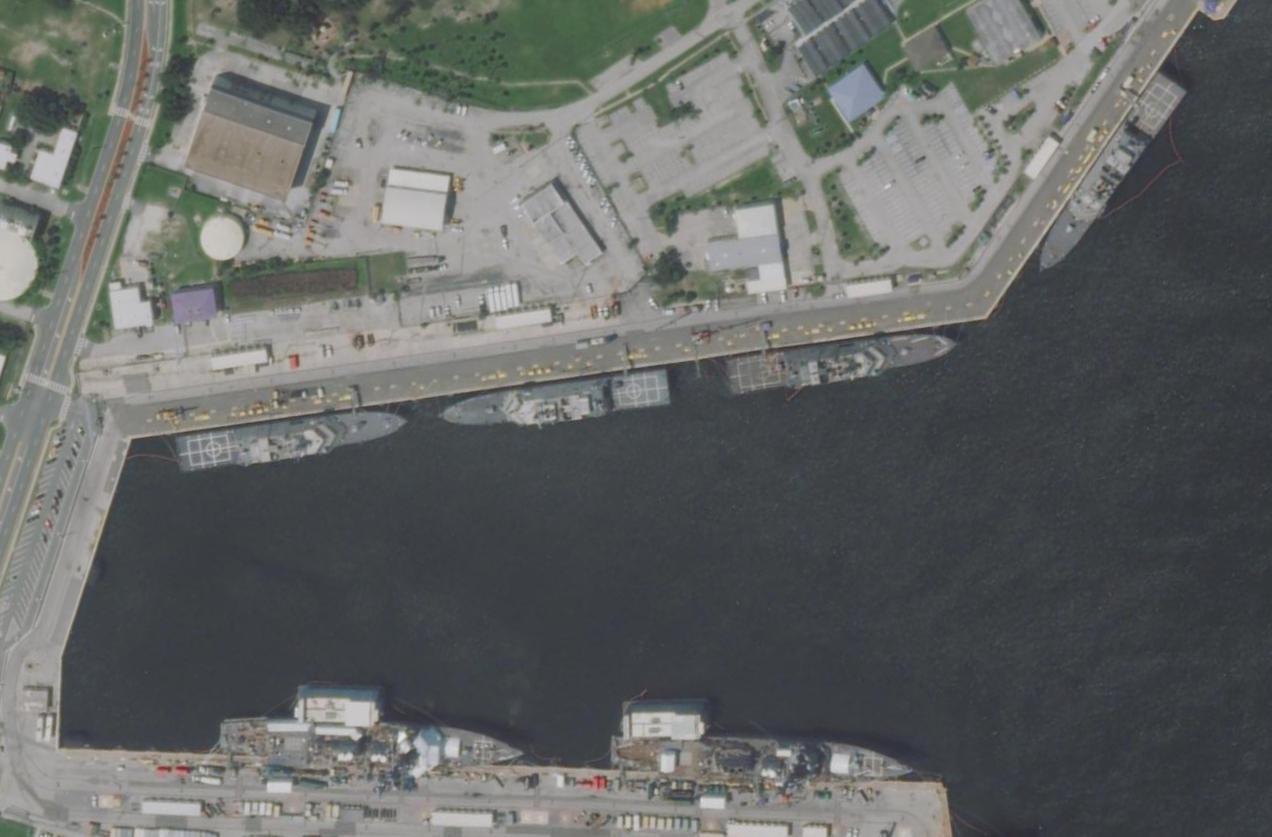patrol: (1037, 64, 1195, 280), (174, 399, 414, 487), (717, 322, 967, 403), (436, 364, 679, 435)
